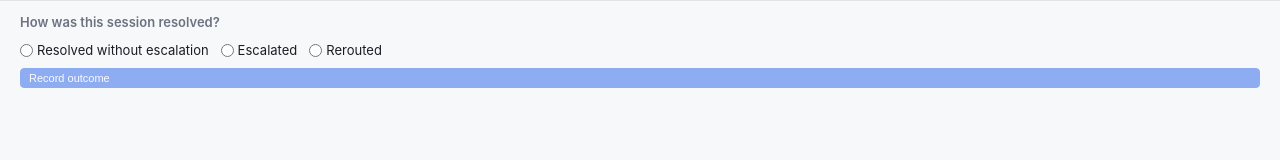
Test: OutcomeWidget › enables submit button after selecting resolution type
Click the radio button with test id "resolution-ResolvedWithoutEscalation": click(26, 50) [20,44,33,57]
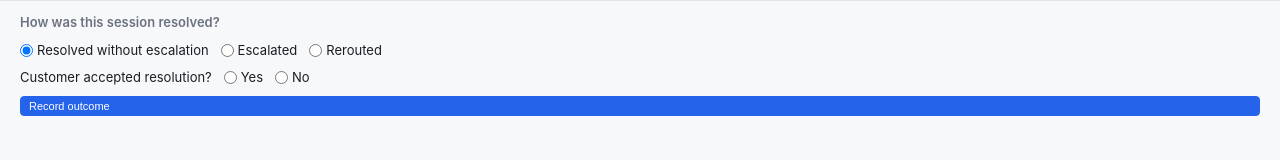
Check: the button with test id "submit-outcome" is enabled, box [20,96,1260,116]
